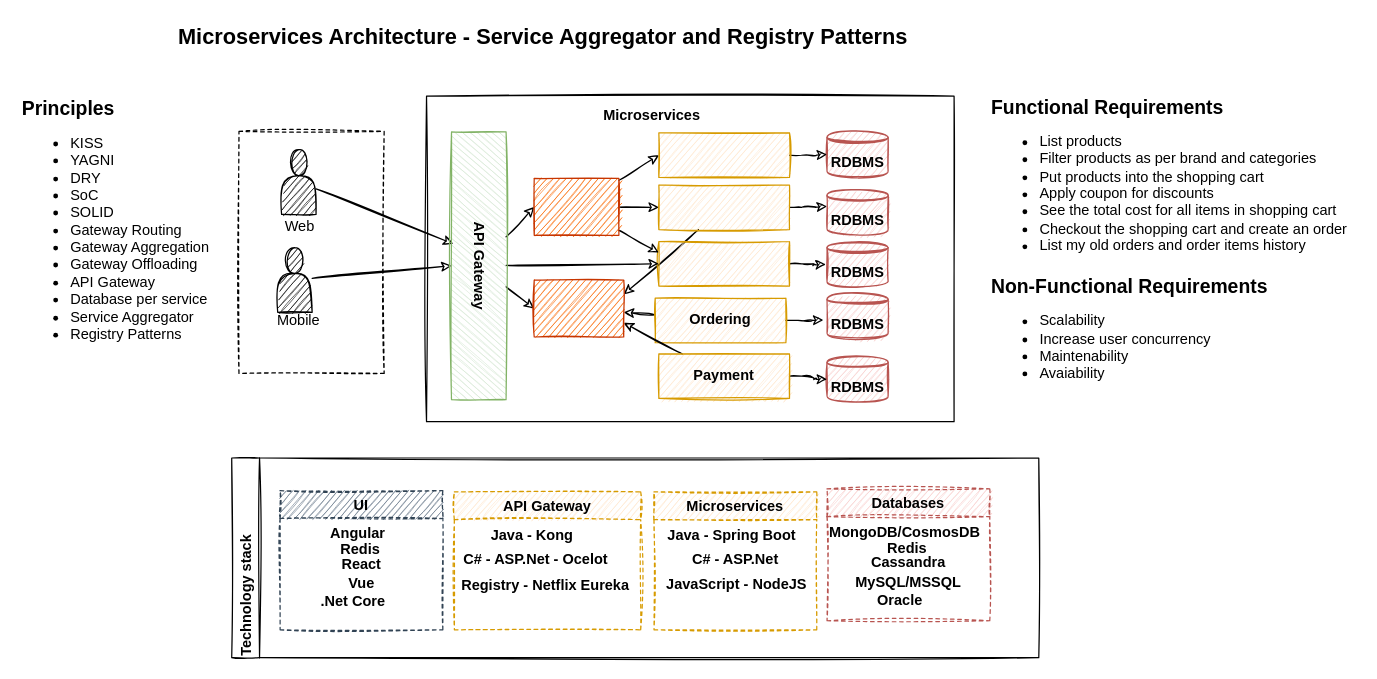
This 1377x679 diagram has some shape labels left out. Each missing label, with the centre of its shape:
"Catalog" belongs at (x=724, y=155).
"Discount" belongs at (x=724, y=263).
"Service Aggregator" belongs at (x=576, y=206).
"Service Registry" belongs at (x=578, y=308).
"Shopping Cart" belongs at (x=724, y=207).
